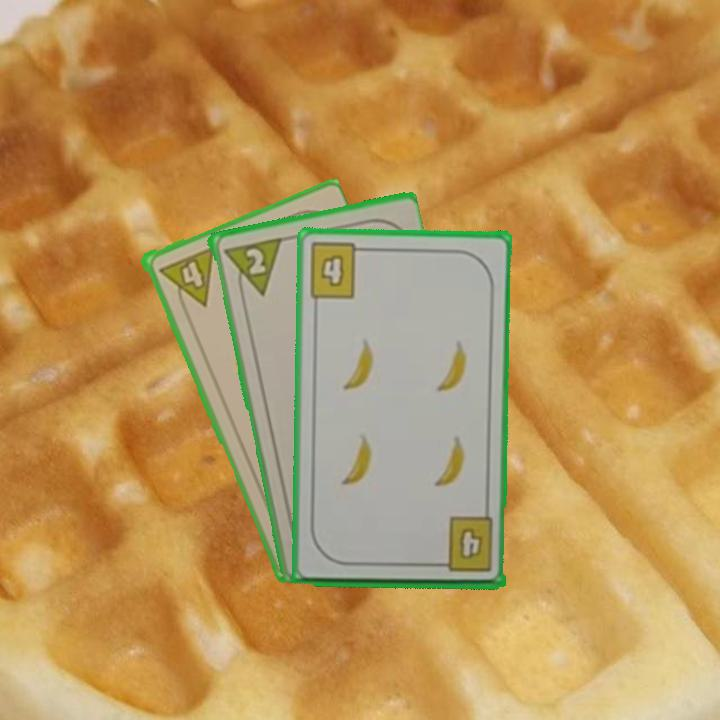2p: (241, 244, 268, 277)
4b: (305, 240, 370, 301), (432, 514, 495, 576)
4p: (154, 243, 216, 316)
